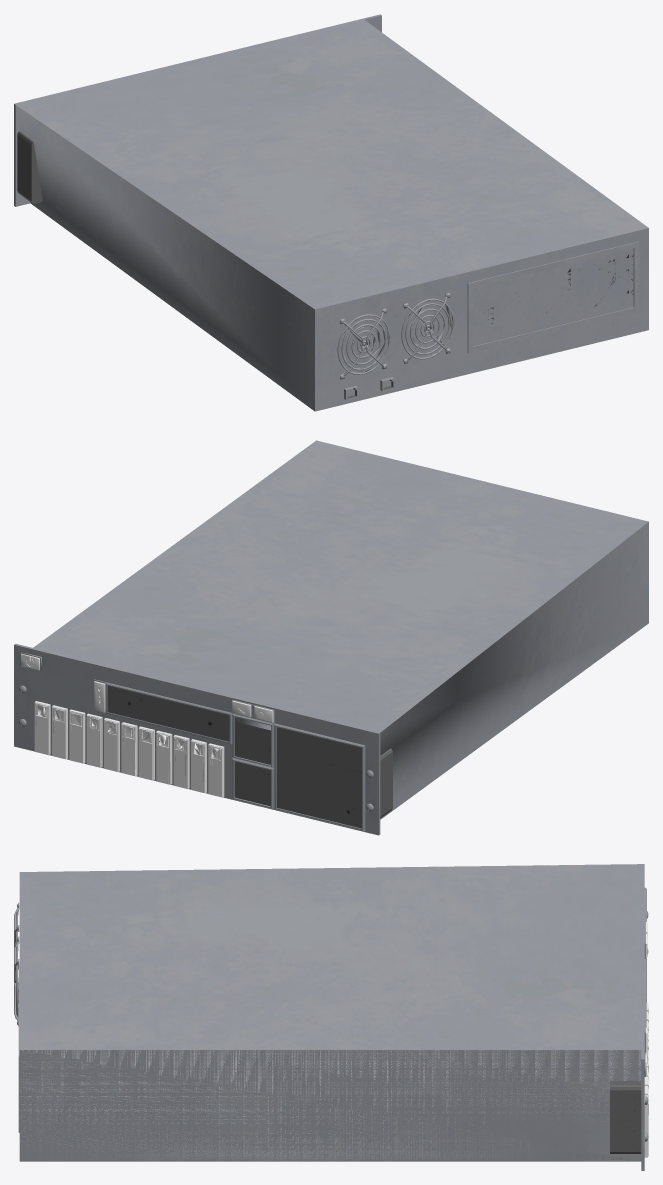
Rendered from Server.RISC.3u.glb.
3 views of the same model, one above another, from view 1: azimuth 30°, elevation 25°; view 2: azimuth 150°, elevation 25°; view 3: azimuth 270°, elevation 25° (orthographic). The views are drawn at different scales.
Parts seen in each view (by area): view 1: Server.Blue1; view 2: Server.Blue1; view 3: Server.Blue1.
Part boxes in pixels (bbox=[...]): Server.Blue1: bbox=[14, 14, 648, 411]; Server.Blue1: bbox=[14, 440, 648, 835]; Server.Blue1: bbox=[14, 864, 648, 1170].
Size of what is drawn, in the model's own units: 0.4977 by 0.1326 by 0.6841.
Materials: 8 (3 with a texture image).
